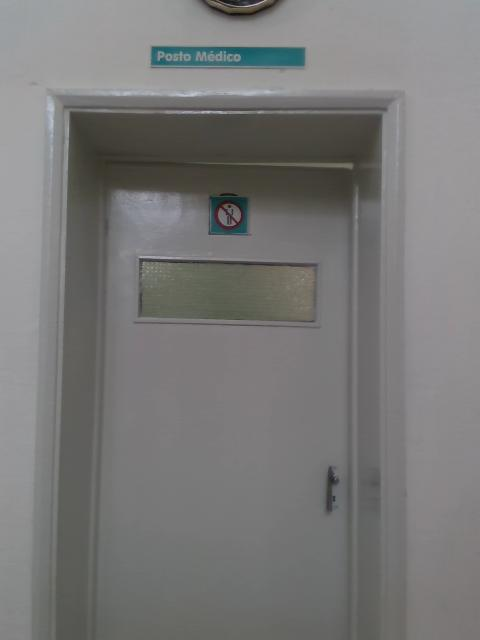door: (91, 164, 352, 640)
